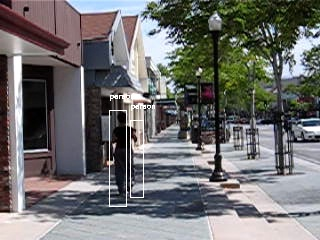person: (112, 112, 139, 196), (111, 112, 138, 196), (113, 112, 140, 196), (112, 111, 139, 195), (112, 113, 139, 197)
target_negative: (20, 103, 272, 133), (15, 65, 155, 110), (222, 29, 256, 128), (89, 187, 139, 215), (200, 190, 254, 200), (261, 214, 285, 232)
